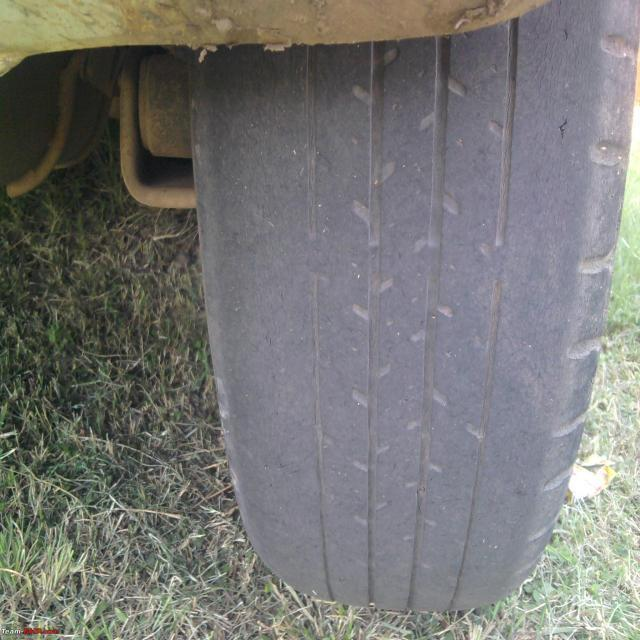Flat spots: (254, 50, 556, 583)
